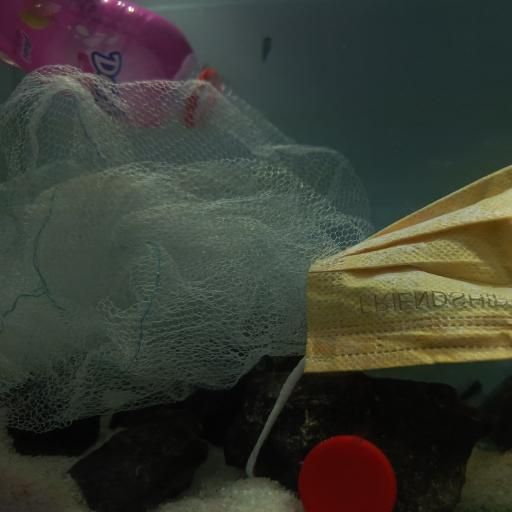bottle_cap: (294, 434, 400, 512)
mask: (297, 163, 512, 379)
net: (7, 64, 376, 407)
plastic_bottle: (3, 0, 227, 132)
